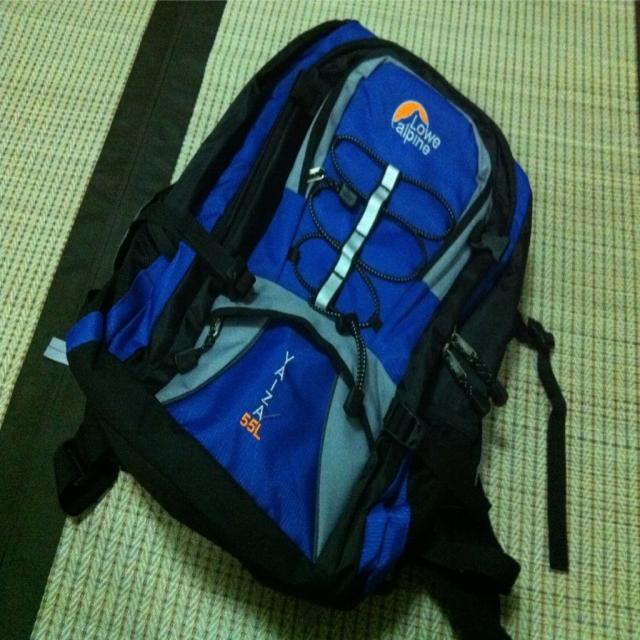backpack: (55, 13, 573, 640)
